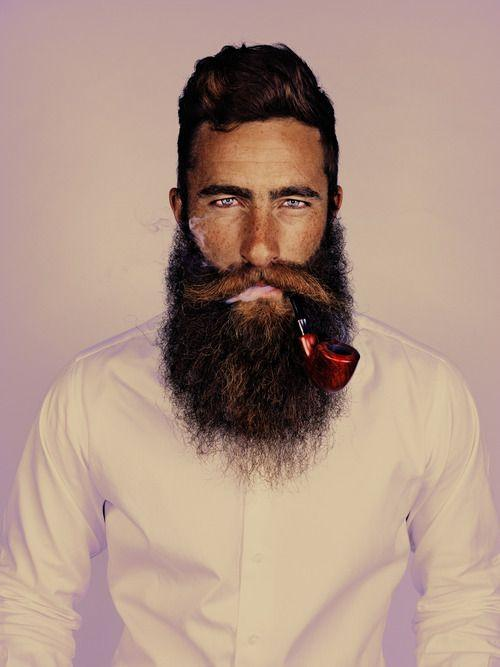trubka: (290, 294, 361, 392)
